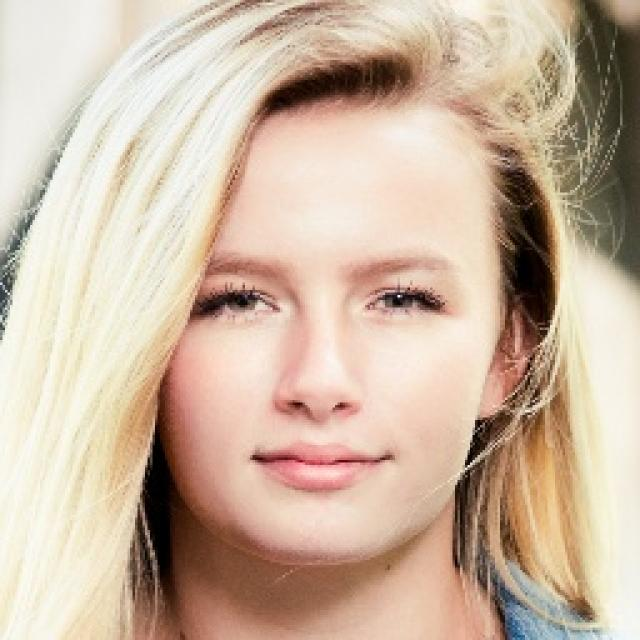earlobe: (476, 368, 506, 420)
eye: (198, 290, 280, 322), (362, 288, 442, 316)
nose: (265, 398, 377, 456)
wholeear: (477, 290, 537, 420)
